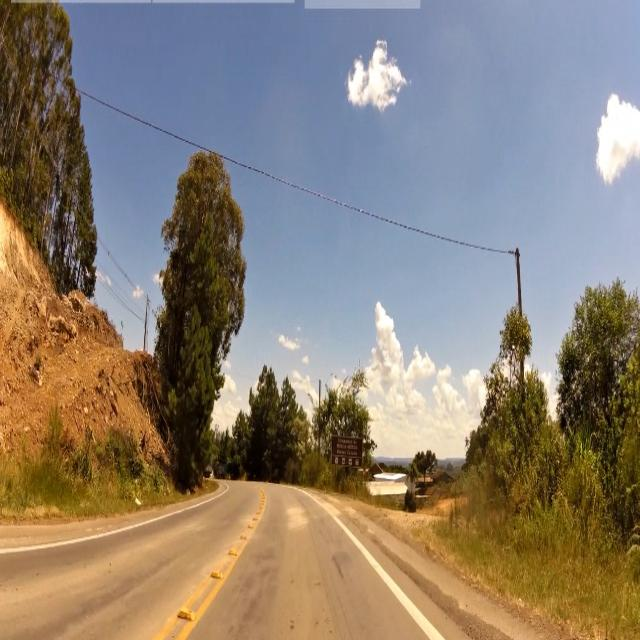TUR-4: (331, 434, 363, 468)
